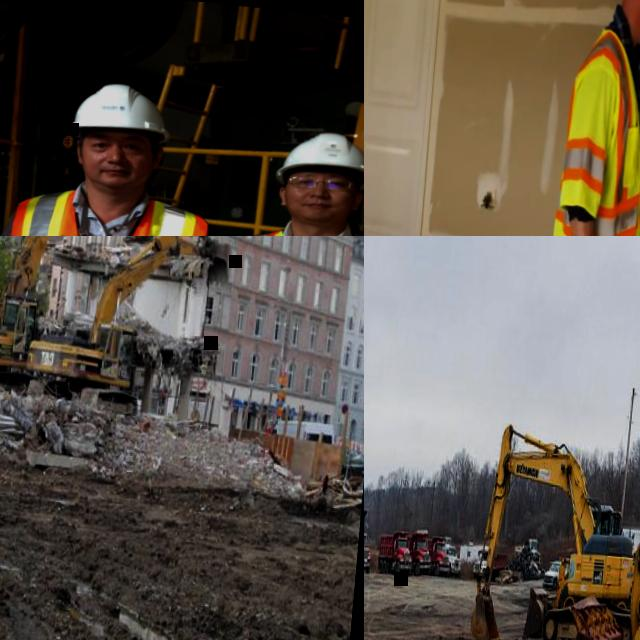Hardhat: (61, 77, 176, 141), (274, 123, 364, 182), (562, 557, 564, 561)
NO-Mask: (86, 158, 142, 189), (284, 195, 346, 221)
Person: (0, 64, 254, 236), (526, 0, 640, 236), (180, 113, 364, 236), (556, 556, 566, 597)
Safety Vest: (546, 24, 640, 236), (0, 182, 213, 236), (558, 563, 564, 579)
vehicle: (467, 421, 640, 640), (526, 329, 640, 640), (22, 236, 213, 420), (0, 236, 168, 407), (377, 527, 414, 576), (272, 414, 334, 442), (402, 526, 432, 576), (472, 545, 506, 582), (423, 534, 451, 576), (543, 552, 571, 589), (440, 534, 463, 575), (341, 447, 364, 487), (514, 535, 542, 566), (364, 507, 375, 573)
